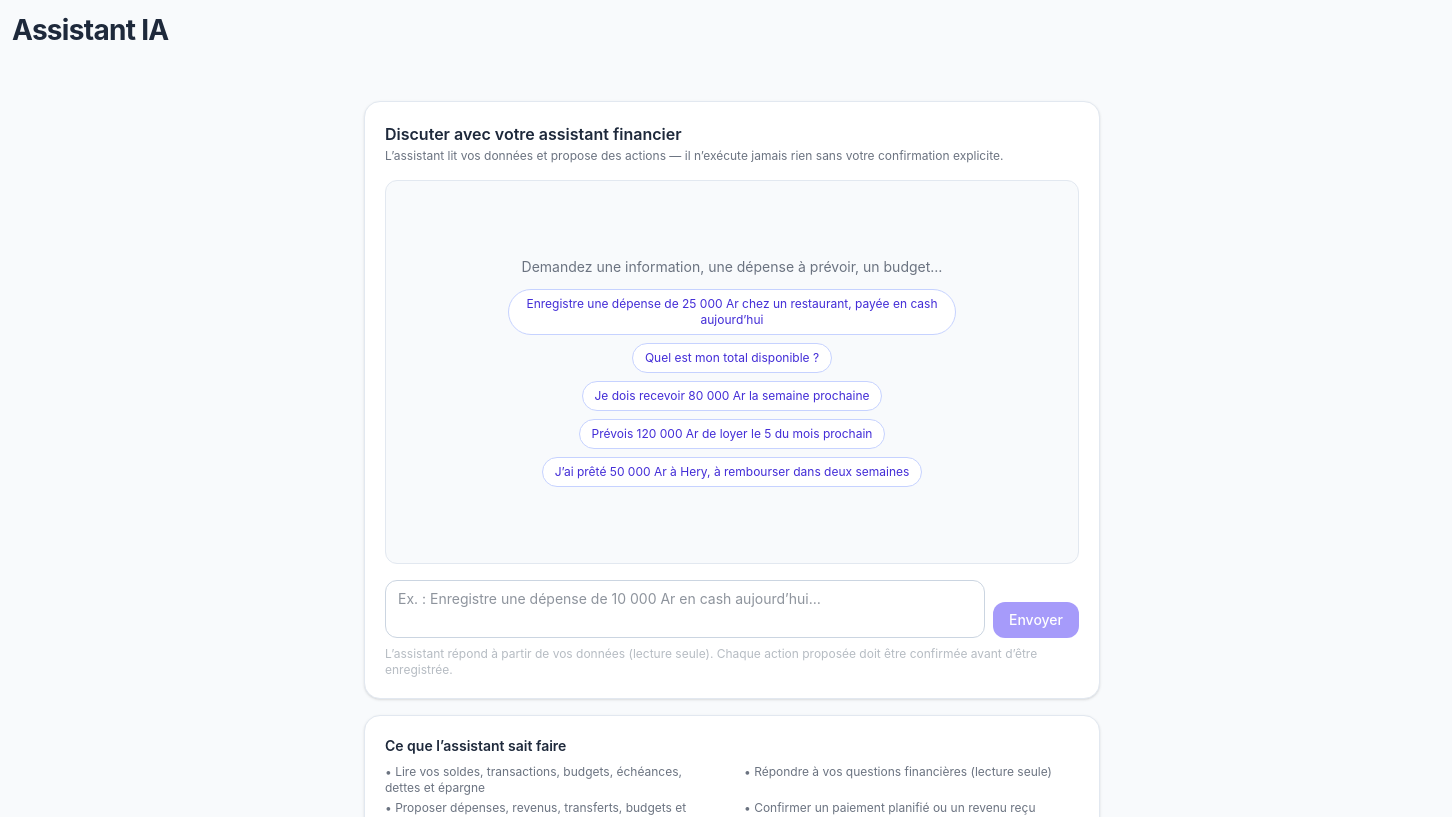
Test: AssistantPage — envoi d’un message › échec réseau : le message optimiste est retiré et le texte restauré
Expected: the heading "Assistant IA" is shown, [12,13,169,47]
Type "Bonjour" into the text box named "Votre message" at (685, 609), box [385,580,985,638]
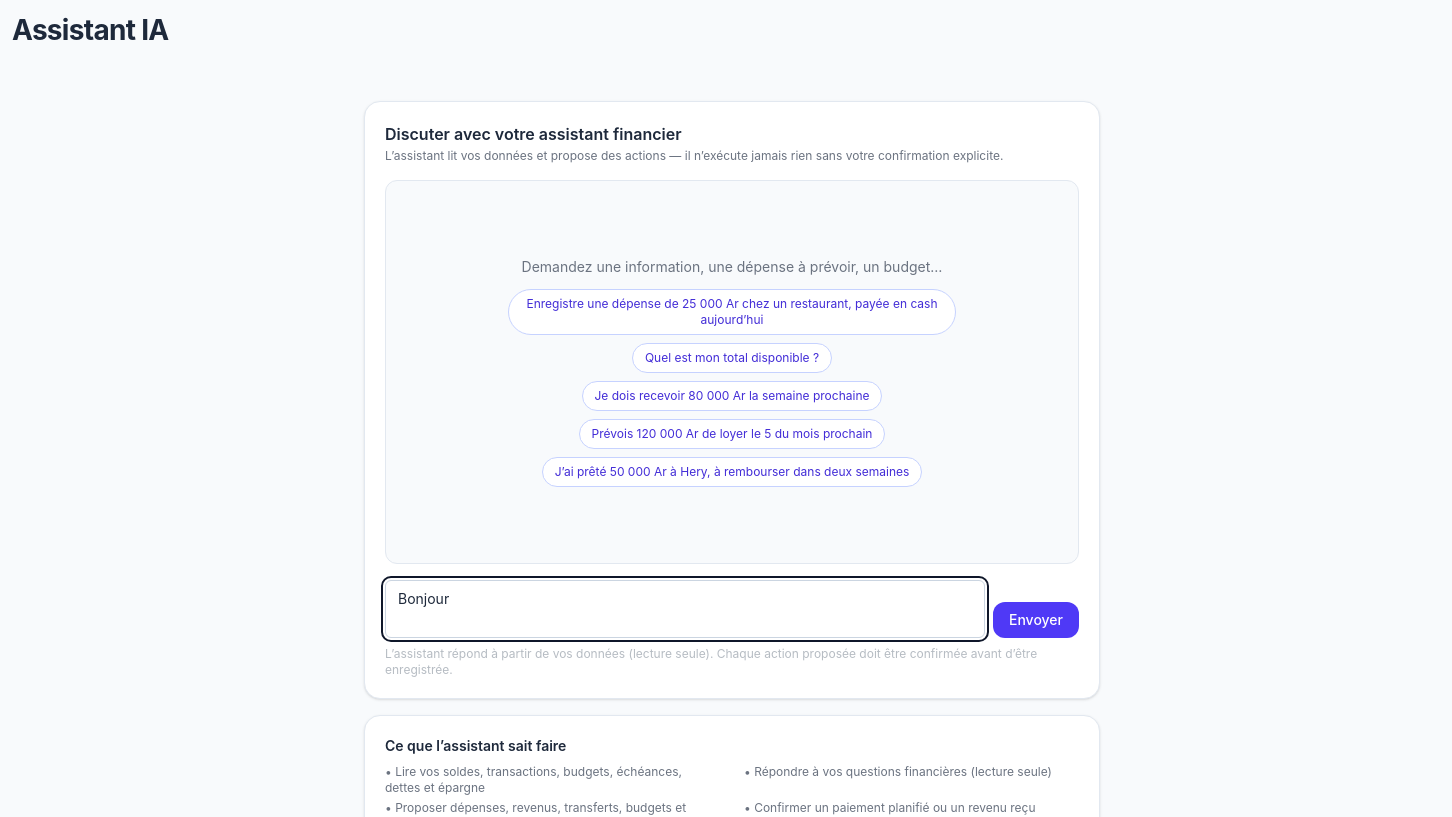
Click the button "Envoyer" at (1036, 620), box [993,602,1079,638]
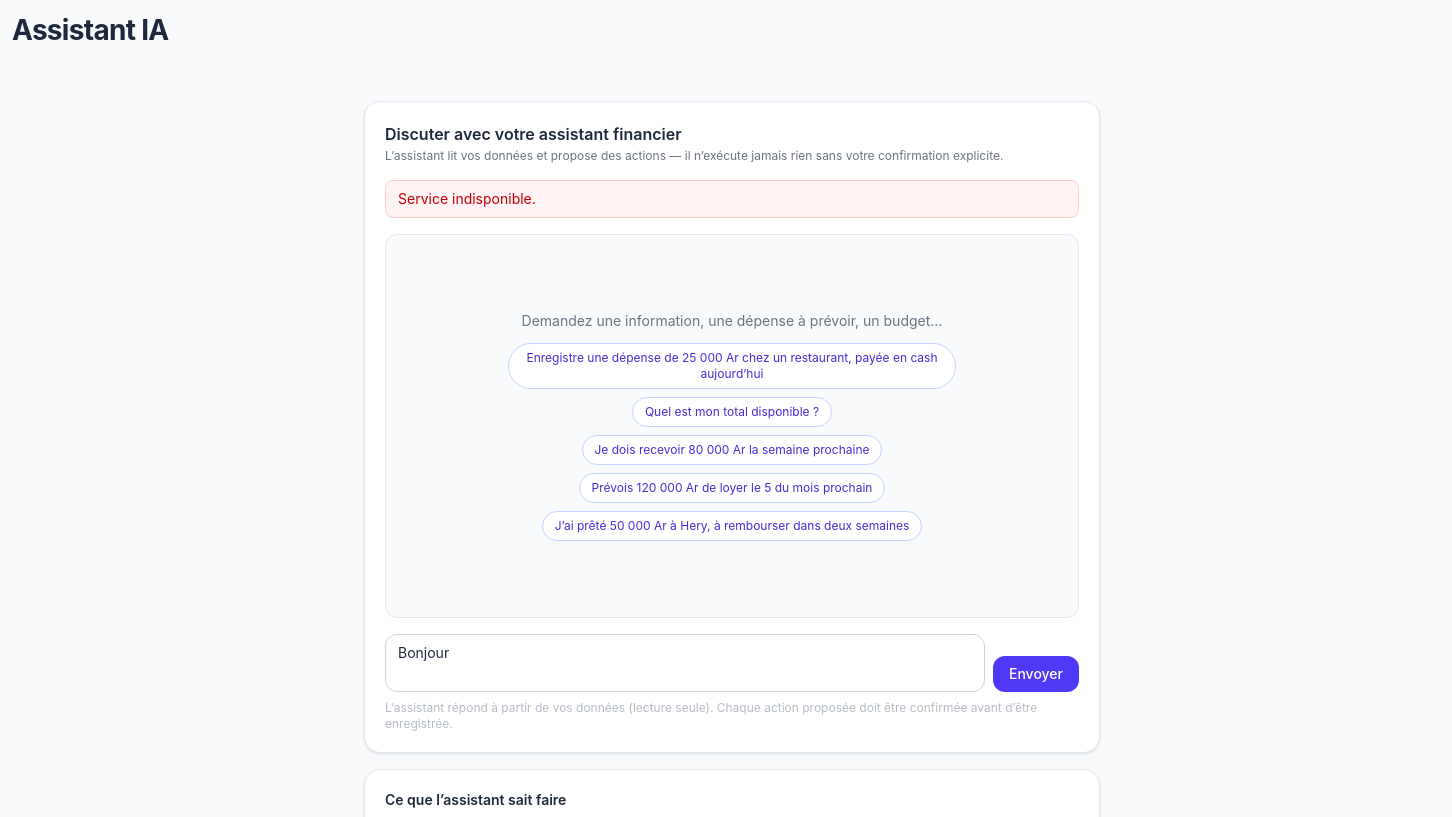
Now the text "Service indisponible." is shown, box [385,180,1079,218]
